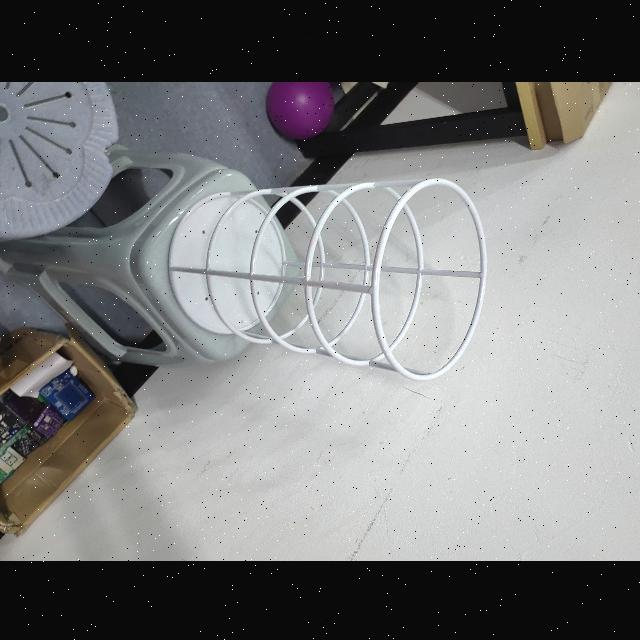S: (162, 172, 490, 382)
